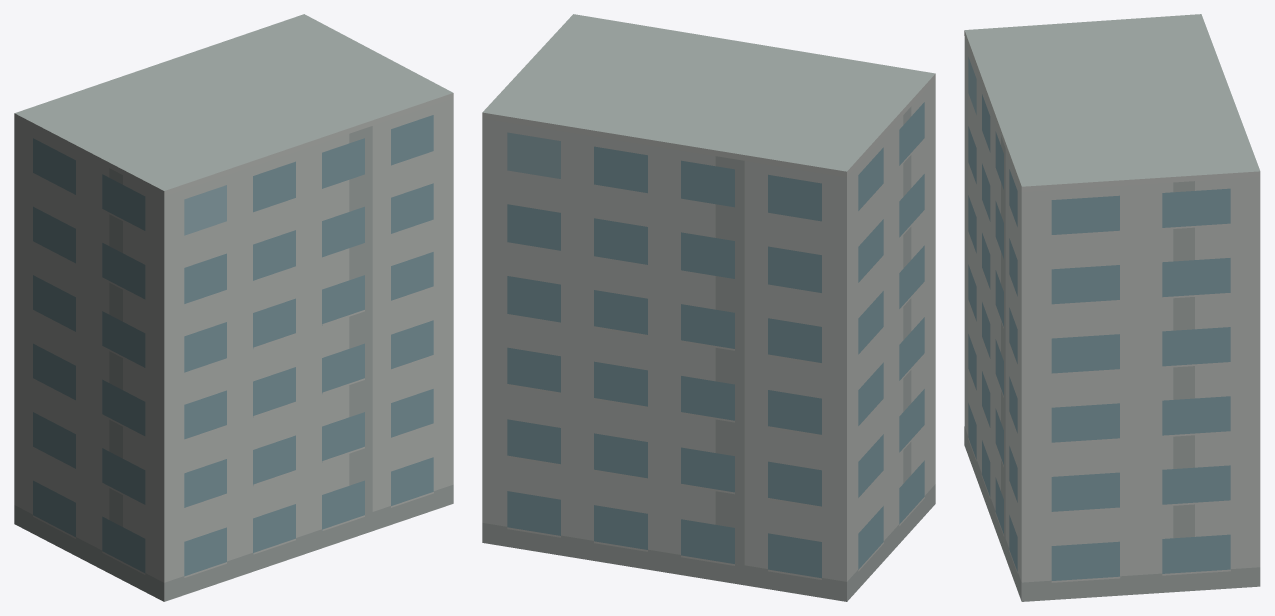
Rendered from survey-upis-32577507.glb.
The picture shows the model from 3 angles, left to right: view 1: azimuth 30°, elevation 25°; view 2: azimuth 150°, elevation 25°; view 3: azimuth 270°, elevation 25°; orthographic projection. The views are drawn at different scales.
Visible parts, largest first — view 1: survey-upis-32577507.tmp; view 2: survey-upis-32577507.tmp; view 3: survey-upis-32577507.tmp.
Part boxes in pixels (x1,y1,x2,y2): survey-upis-32577507.tmp: (14,14,453,601); survey-upis-32577507.tmp: (482,14,935,601); survey-upis-32577507.tmp: (964,14,1260,601).
Size of the model in its own units: 16.34 by 18.3 by 11.83.
